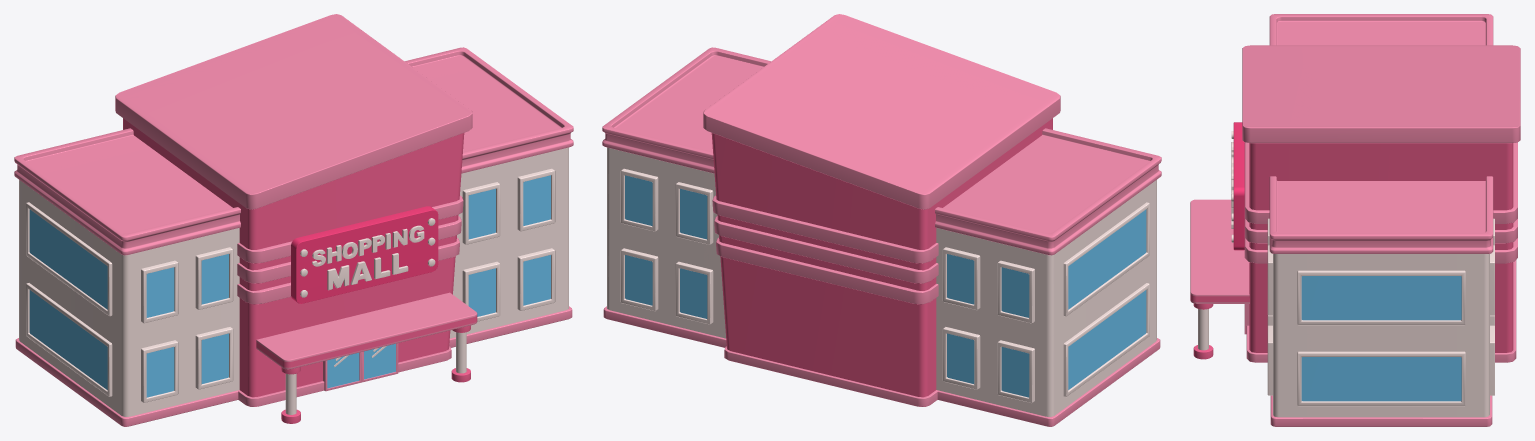
Rendered from Public_10_Shopping_Mall_1.glb.
3 renders of one model, left to right at view 1: azimuth 30°, elevation 25°; view 2: azimuth 150°, elevation 25°; view 3: azimuth 270°, elevation 25°, orthographic.
Parts seen in each view (by area): view 1: Public_10_Shopping_Mall_1; view 2: Public_10_Shopping_Mall_1; view 3: Public_10_Shopping_Mall_1.
Boxes of the visible parts, x1,y1,x2,y2 form: Public_10_Shopping_Mall_1: (14,14,573,426); Public_10_Shopping_Mall_1: (602,14,1161,426); Public_10_Shopping_Mall_1: (1190,14,1520,426).
Size of the model in its own units: 24.8 by 12.71 by 15.57.
Materials: 1 (1 with a texture image).
